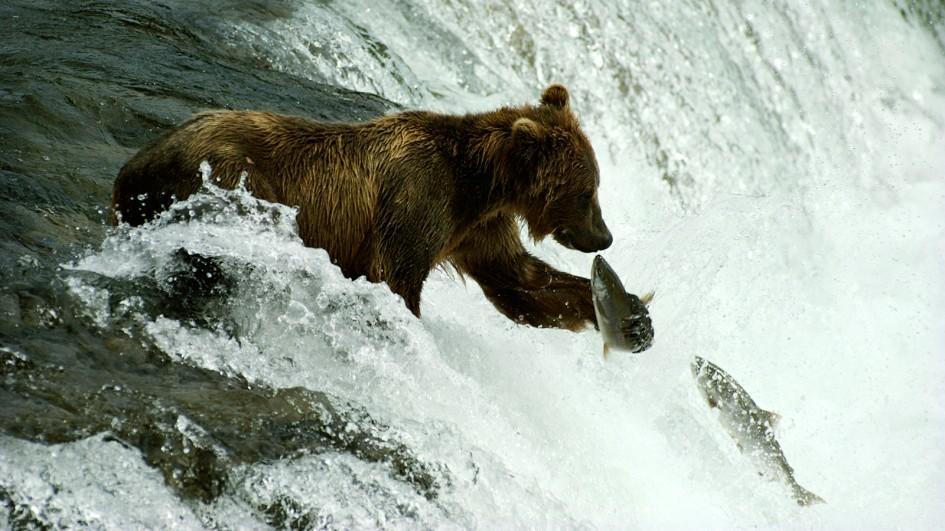bear: (508, 81, 619, 255)
